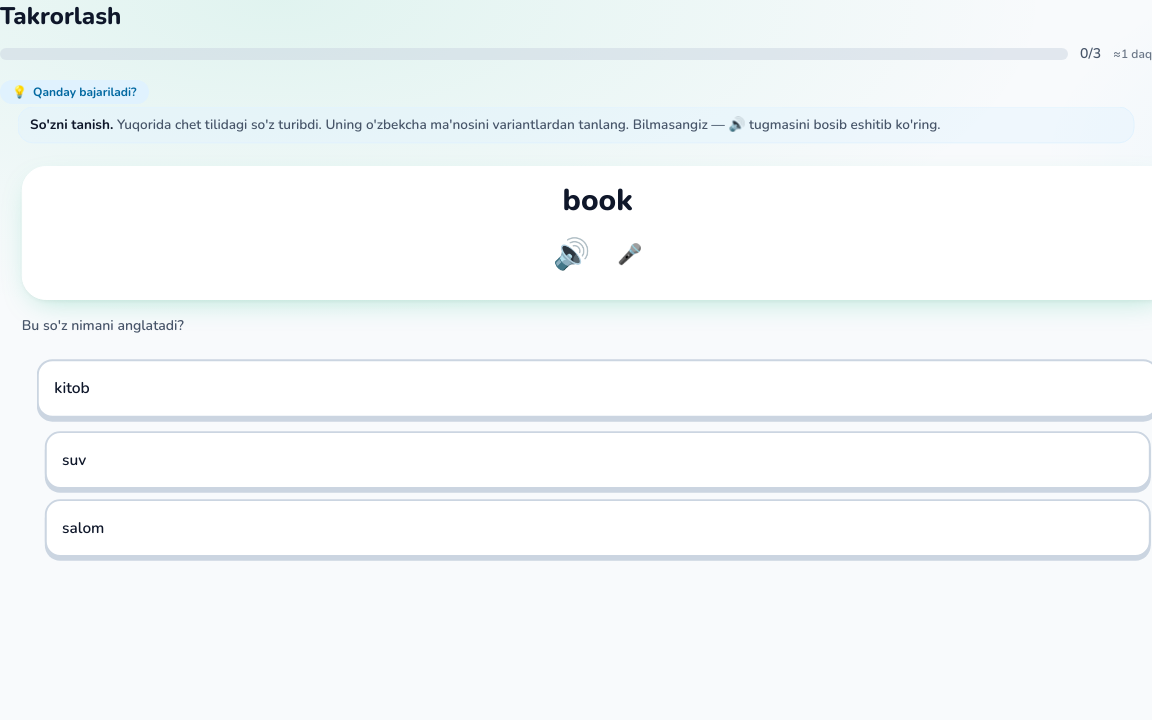
Scenario: ReviewScreen — mashq oqimi › xato javobda togri javob korsatiladi va jazolanmaydi
The image size is (1152, 720).
Expected: the text "0/3" is shown, [1080,44,1101,64]
Click the button "suv": (74, 460) [45,431,1151,489]
(page scrolled)
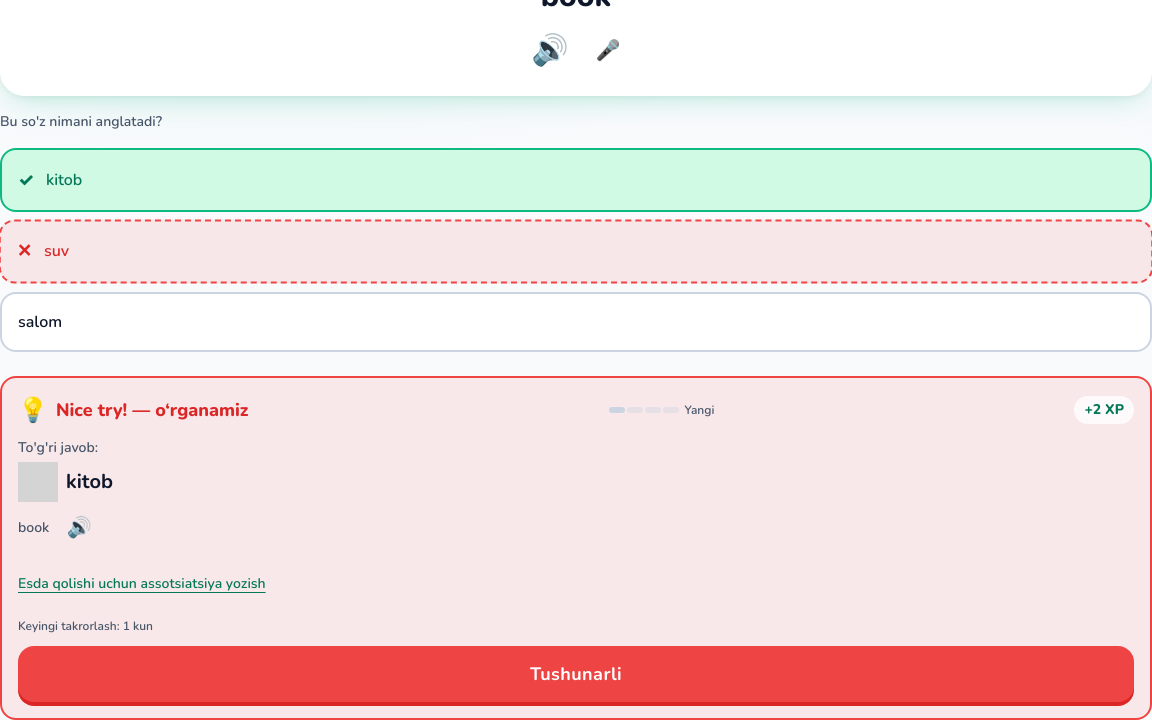
Expected: the text "Nice try! — o‘rganamiz" is shown, [56,396,248,424]
Expected: the text with test id "correct-answer" is shown, [66,468,113,496]
